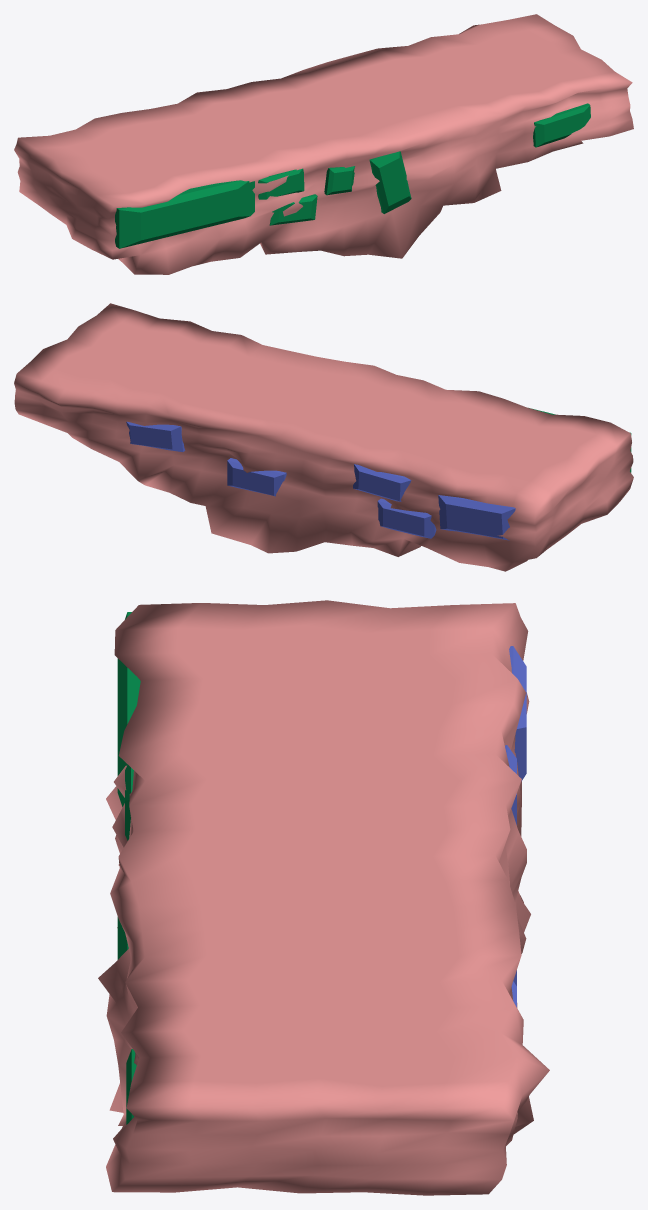
The model's file is Ruins_Ground_2.FBX.
3 views of the same model, one above another, from view 1: azimuth 30°, elevation 25°; view 2: azimuth 150°, elevation 25°; view 3: azimuth 270°, elevation 25° (orthographic). The views are drawn at different scales.
Parts seen in each view (by area): view 1: Box003, Box004; view 2: Box003, Box009; view 3: Box003, Box004, Box009.
Boxes of the visible parts, left/top/right/bottom form: Box003: left=14, top=14, right=633, bottom=274; Box004: left=115, top=103, right=590, bottom=248; Box003: left=14, top=303, right=633, bottom=571; Box009: left=126, top=421, right=515, bottom=540; Box003: left=98, top=600, right=549, bottom=1195; Box004: left=117, top=612, right=140, bottom=1124; Box009: left=505, top=646, right=526, bottom=1006.
Bounding box in the file's own units: 114 × 24.12 × 42.2.
